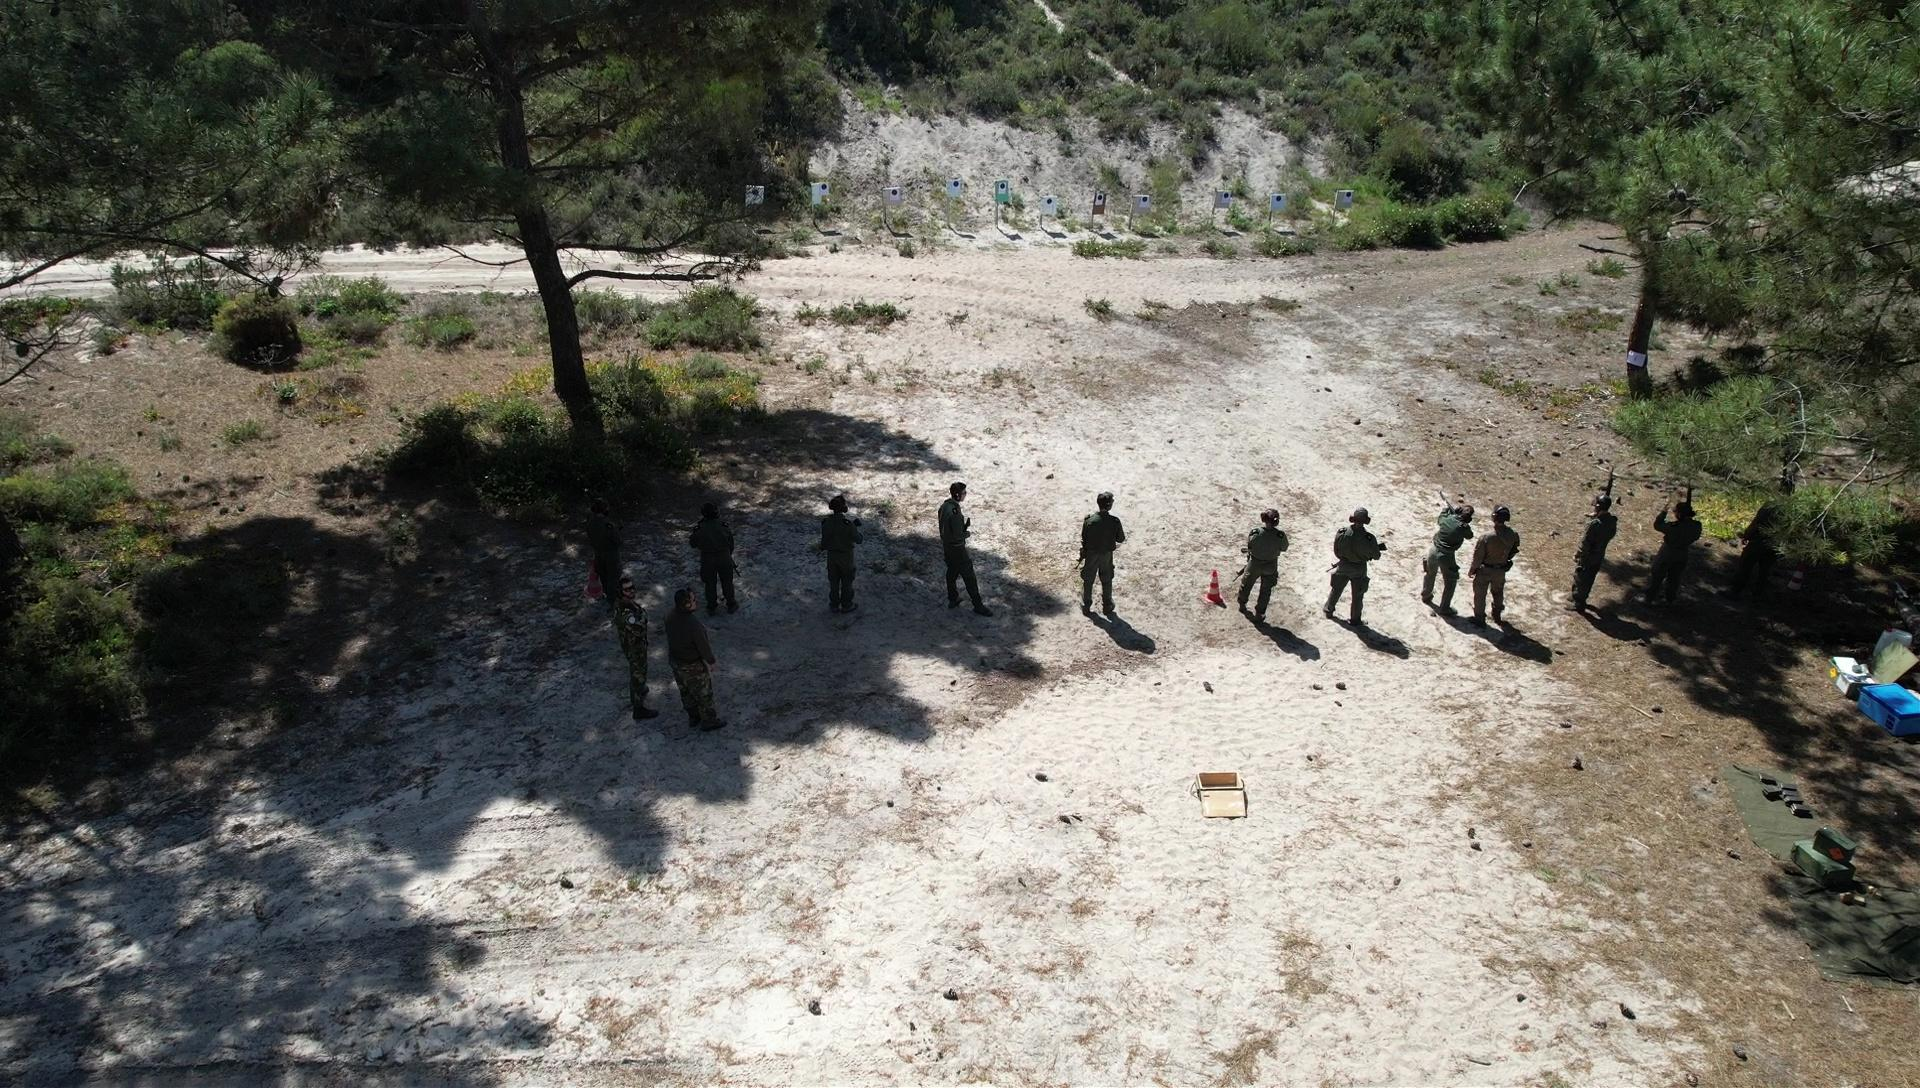Soldier: (663, 580, 737, 744), (924, 471, 995, 626), (600, 579, 668, 729), (801, 484, 870, 630), (1559, 462, 1622, 619), (1061, 479, 1129, 621), (1321, 501, 1387, 636), (1646, 470, 1702, 620), (1233, 499, 1296, 632), (678, 501, 748, 618), (1468, 501, 1522, 643), (1419, 486, 1468, 619), (580, 501, 634, 606)
